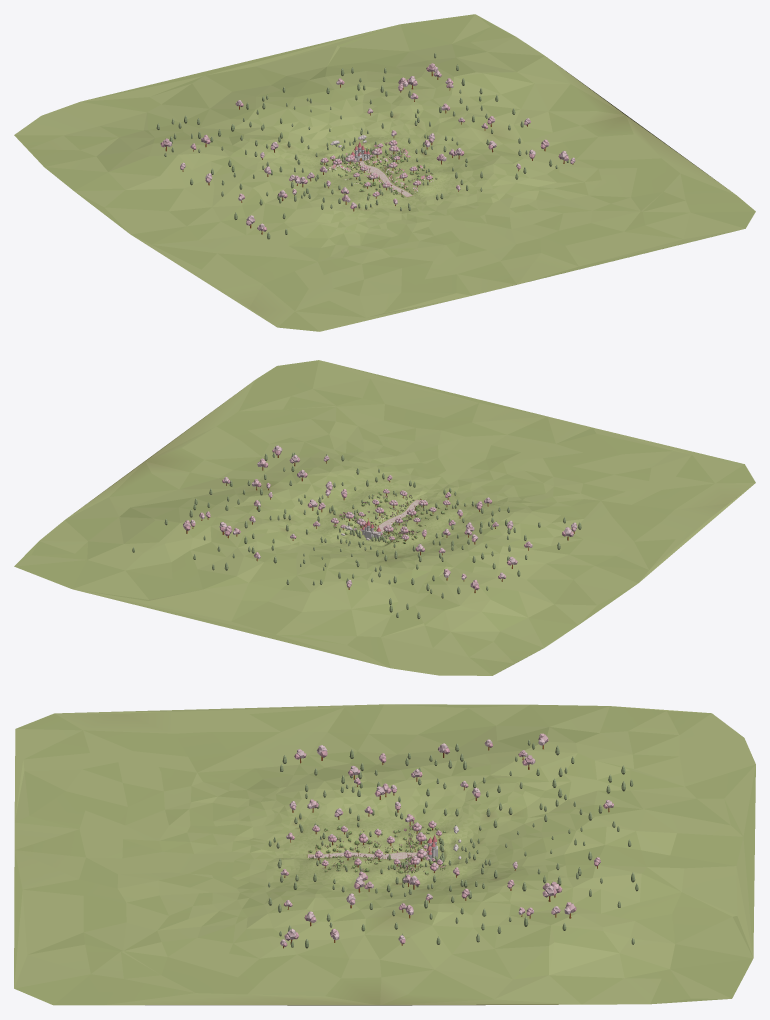
File: garden.glb
The picture shows the model from 3 angles, top to bottom: view 1: azimuth 30°, elevation 25°; view 2: azimuth 150°, elevation 25°; view 3: azimuth 270°, elevation 25°; orthographic projection. The views are drawn at different scales.
Visible parts, largest first — view 1: W_Ground, W_Trees, W_Flowers; view 2: W_Ground, W_Trees; view 3: W_Ground, W_Trees, W_Flowers.
Boxes of the visible parts, x1=… form: W_Ground: x1=14, y1=14, x2=755, y2=331; W_Trees: x1=156, y1=53, x2=575, y2=239; W_Flowers: x1=328, y1=141, x2=433, y2=194; W_Ground: x1=14, y1=360, x2=755, y2=675; W_Trees: x1=132, y1=445, x2=581, y2=618; W_Ground: x1=14, y1=704, x2=755, y2=1005; W_Trees: x1=268, y1=733, x2=638, y2=948; W_Flowers: x1=309, y1=825, x2=445, y2=873.
Bounding box in the file's own units: 392 × 19.73 × 408.
